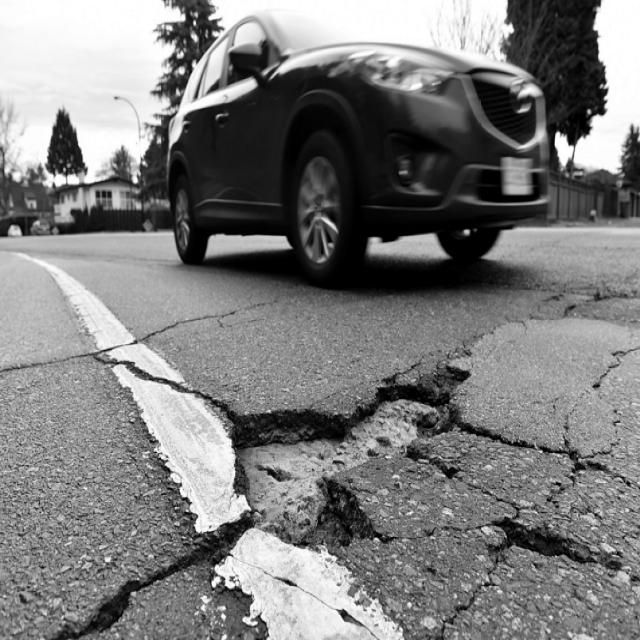pathole: (240, 401, 446, 543), (50, 546, 216, 635), (495, 518, 620, 568)
